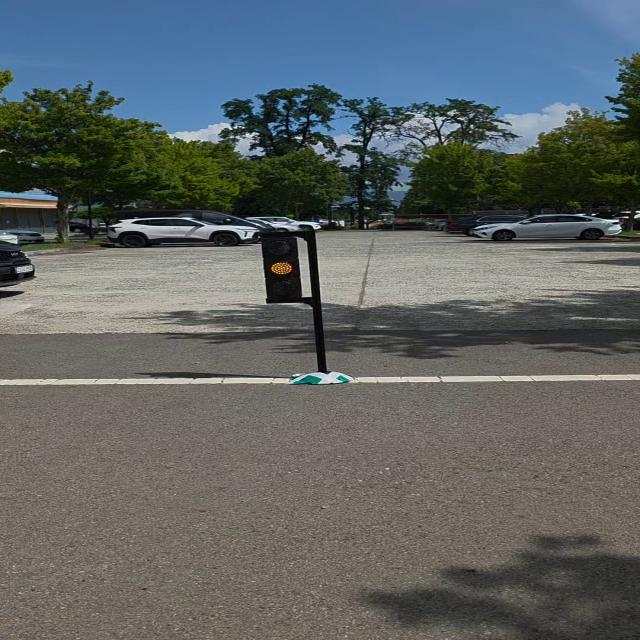yellow: (253, 230, 309, 305)
